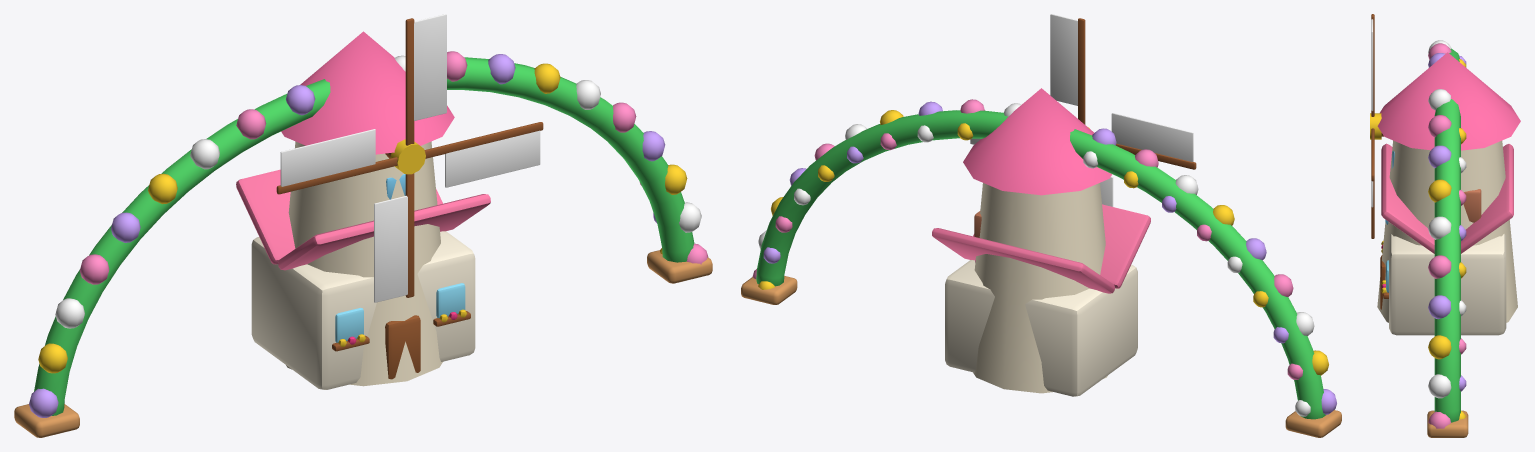
The model's file is blossom.glb.
3 renders of one model, left to right at view 1: azimuth 30°, elevation 25°; view 2: azimuth 150°, elevation 25°; view 3: azimuth 270°, elevation 25°, orthographic. The views are drawn at different scales.
Visible parts, largest first — view 1: flower_arch, cottage, windmill_body, blades_windmill; view 2: flower_arch, windmill_body, cottage, blades_windmill; view 3: windmill_body, cottage, flower_arch, blades_windmill.
Part boxes in pixels (<box>): flower_arch: <box>14,51,712,437</box>; cottage: <box>236,169,490,389</box>; windmill_body: <box>281,31,454,386</box>; blades_windmill: <box>276,14,543,302</box>; flower_arch: <box>741,99,1341,437</box>; windmill_body: <box>963,88,1112,393</box>; cottage: <box>932,204,1150,396</box>; blades_windmill: <box>970,14,1196,206</box>; windmill_body: <box>1377,52,1520,322</box>; cottage: <box>1381,143,1513,335</box>; flower_arch: <box>1427,40,1468,437</box>; blades_windmill: <box>1370,14,1381,238</box>.
Bounding box in the file's own units: 21.4 × 11.15 × 5.15.
